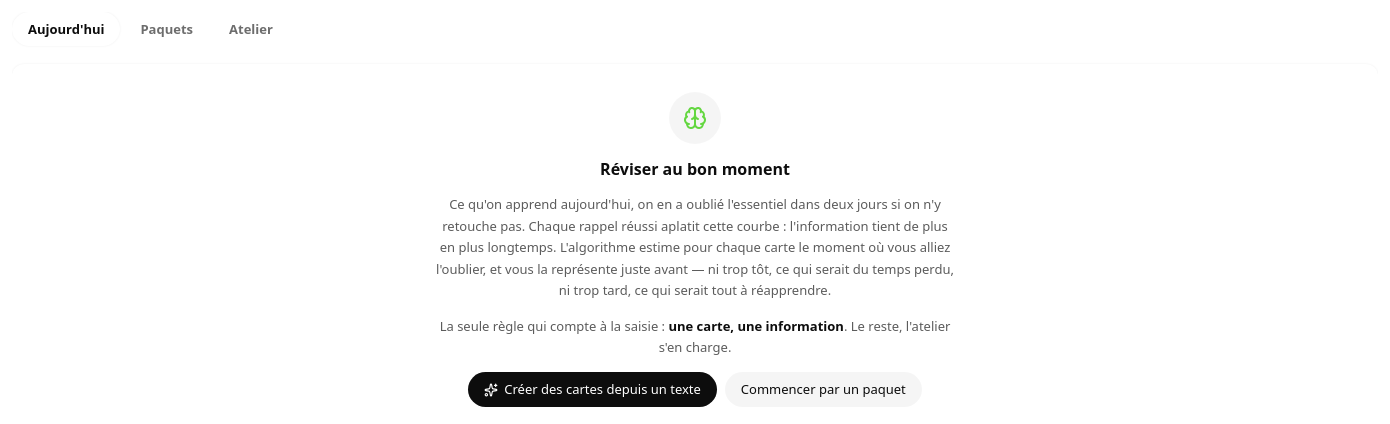
Test: Page Révisions — montage › rend les trois onglets sans exception
Click the button "Paquets": (167, 29) x1=124 y1=12 x2=209 y2=46
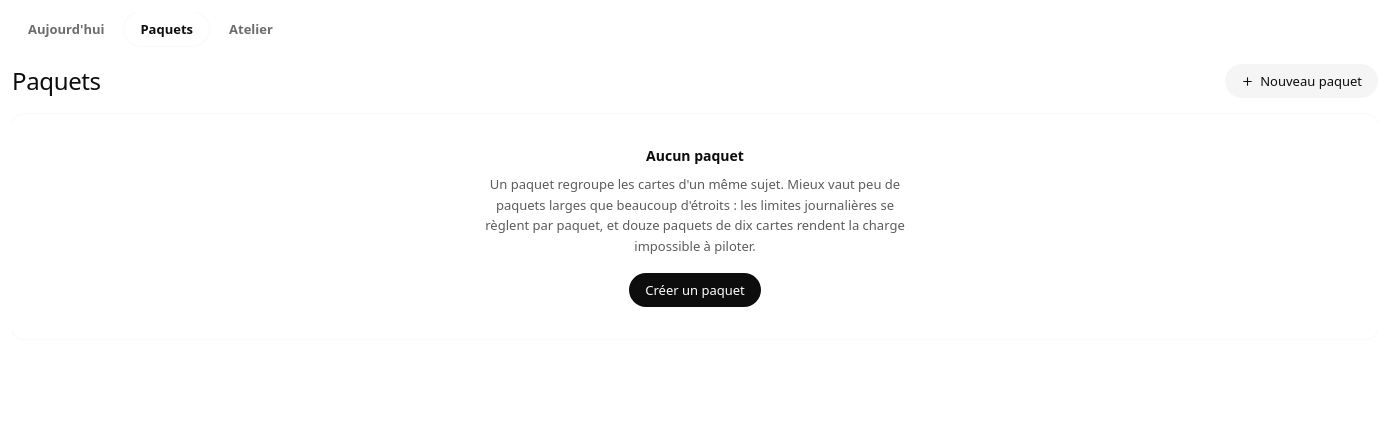
Click the button "Atelier": (251, 29) x1=213 y1=12 x2=289 y2=46
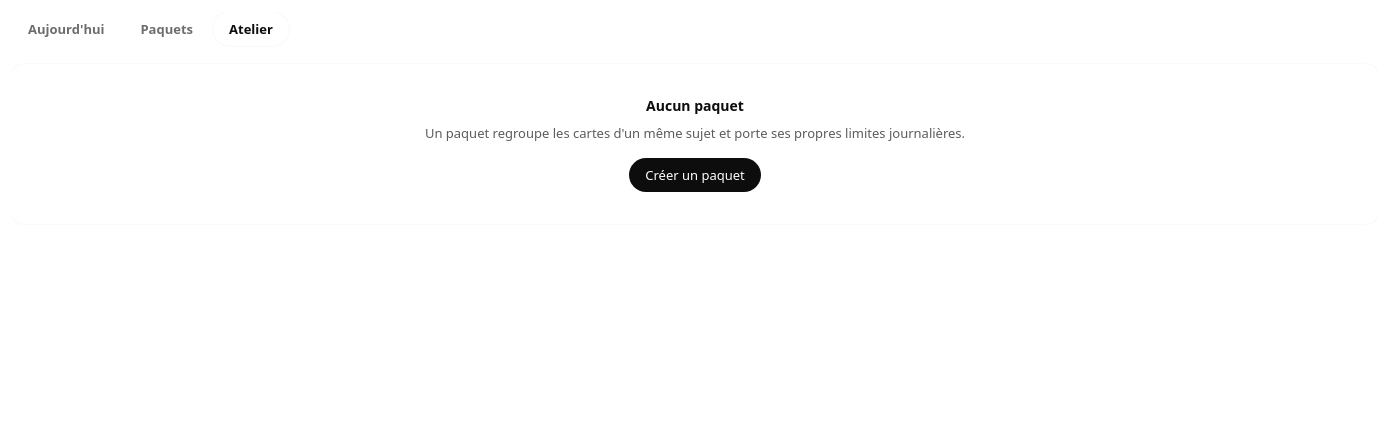
Click the button "Aujourd'hui": (66, 29) x1=12 y1=12 x2=120 y2=46
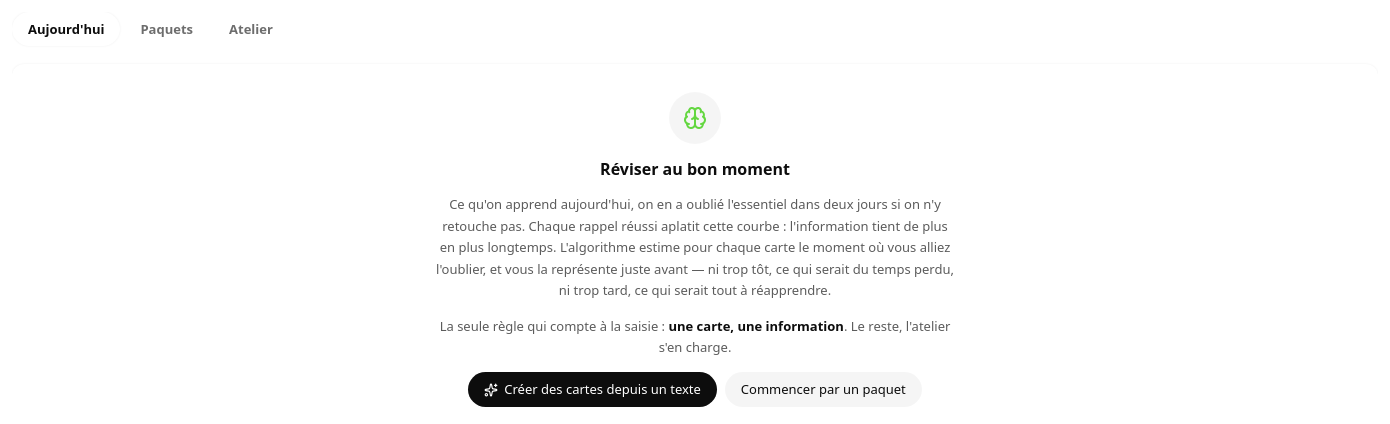
Expected: the text "Réviser au bon moment" is shown, x1=600 y1=158 x2=790 y2=180
